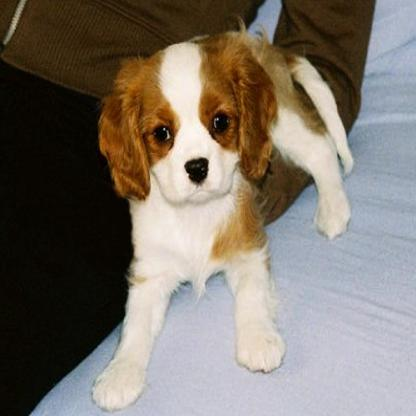dog: (90, 29, 355, 412)
